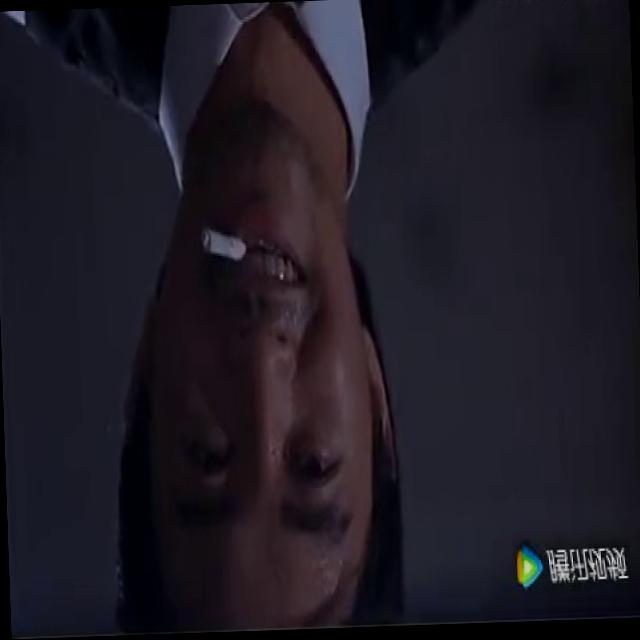cigarette: (194, 221, 253, 262)
